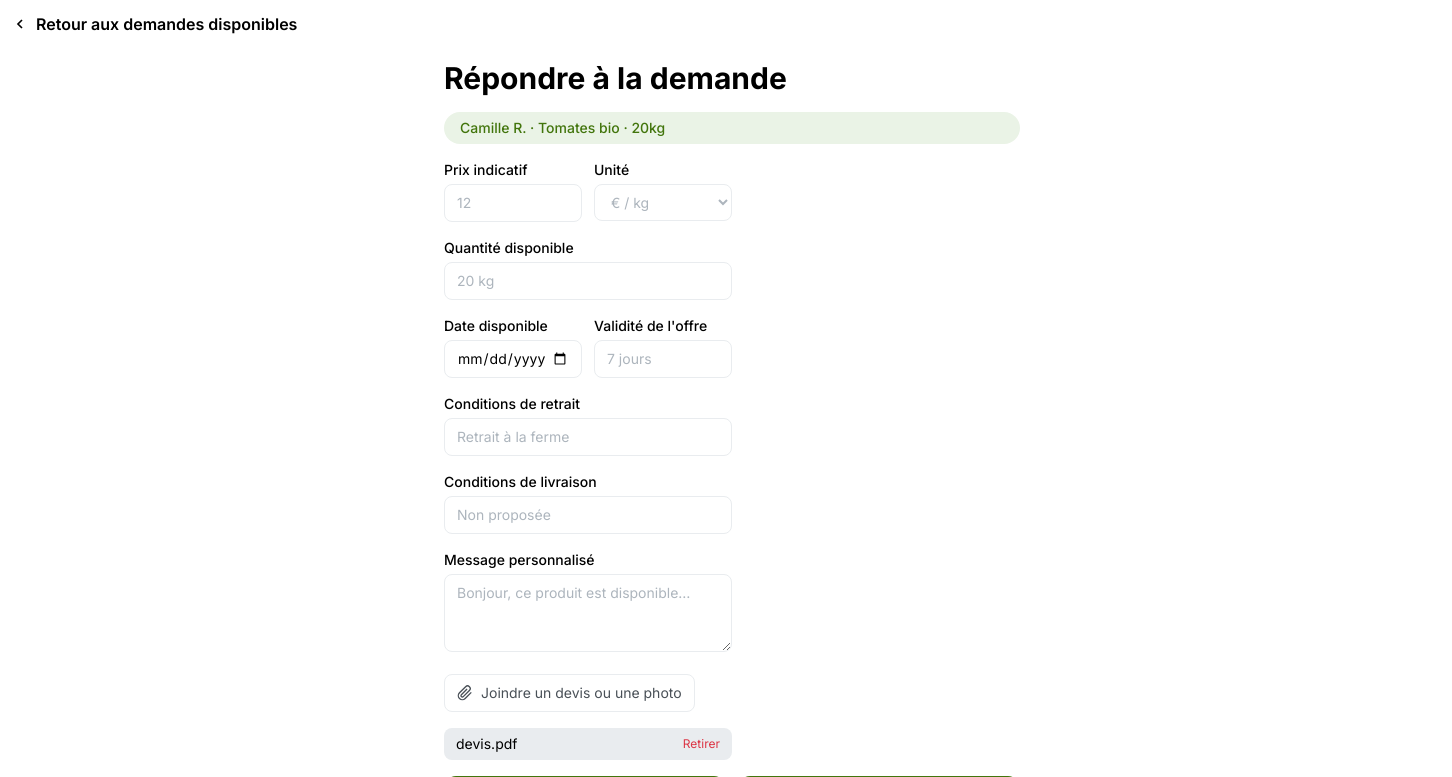
it: ReplyComponent › retire un fichier du brouillon
This screenshot has width=1452, height=777.
Click the button "Retirer" at (701, 744), box [683,736,720,752]
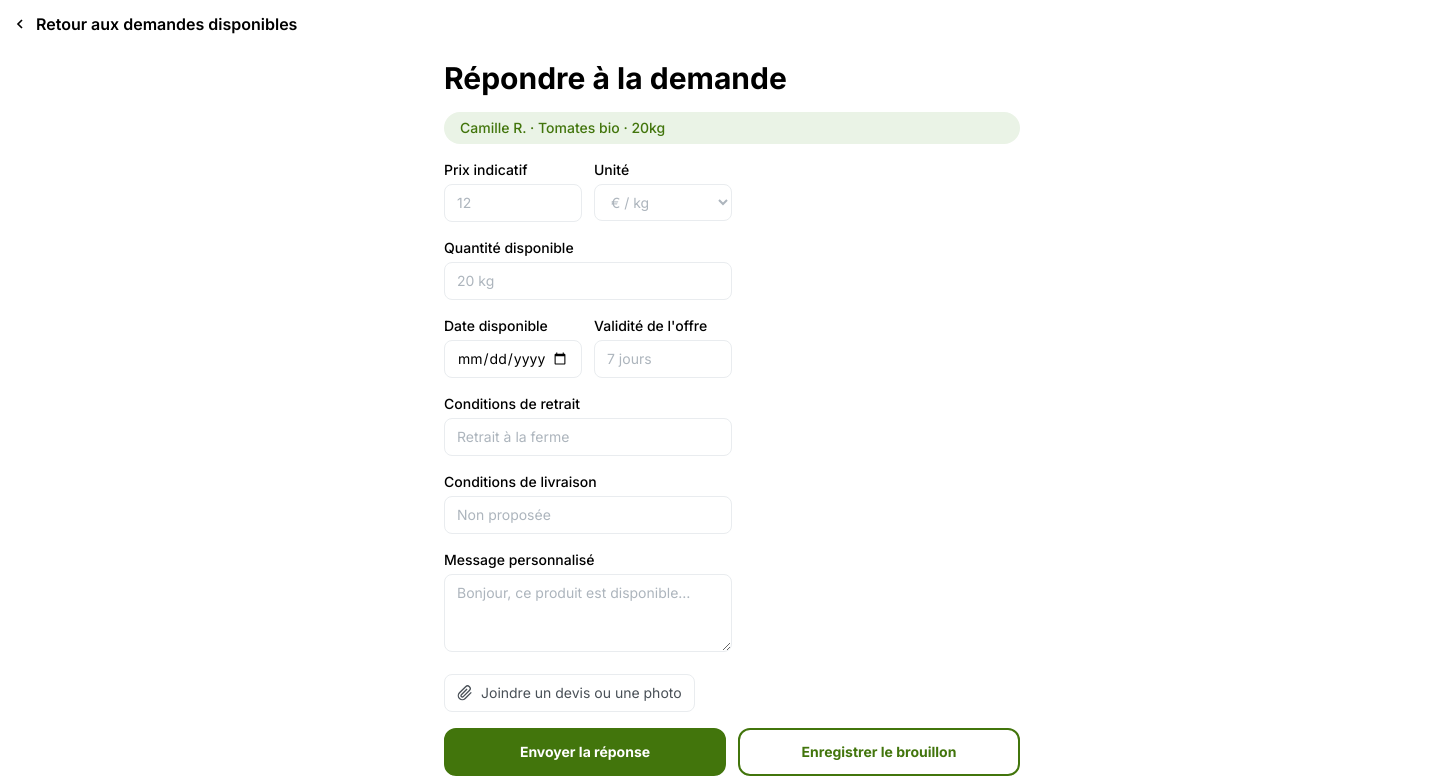
Now the text "devis.pdf" is gone
